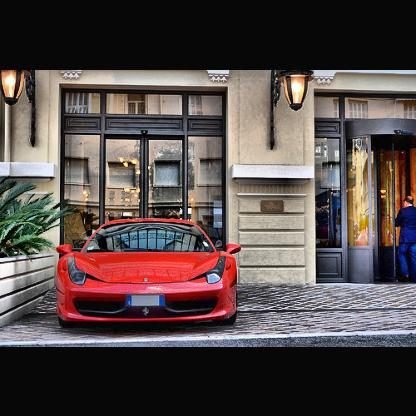Ferrari 458 Italia Coupe 2012: (53, 215, 241, 331)
